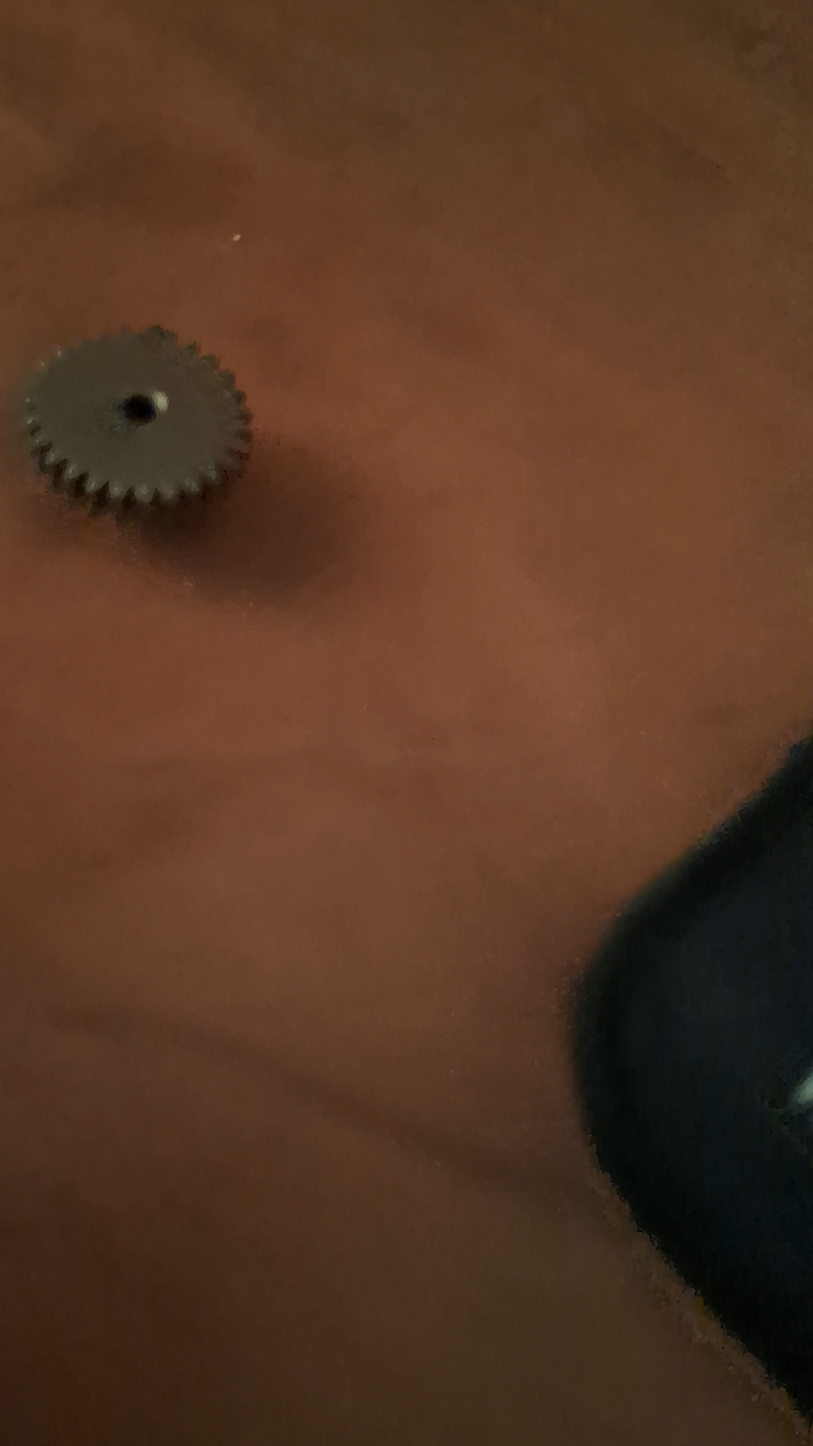spur gear: (24, 326, 250, 508)
